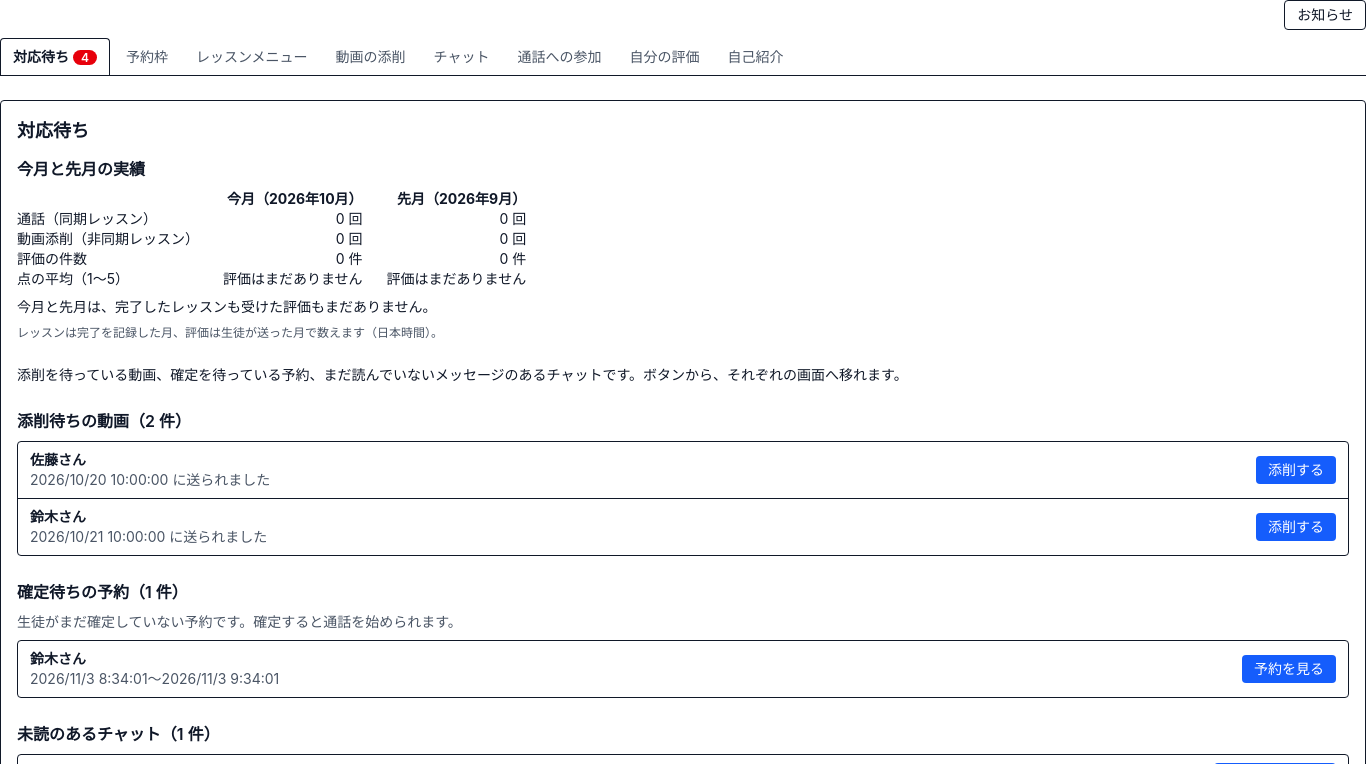
Test: コーチの対応待ち › 確定待ちの「予約を見る」で通話への参加（予約の一覧）へ移る
Click the button "予約を見る".
click(1289, 669)  # box [1242,655,1336,683]
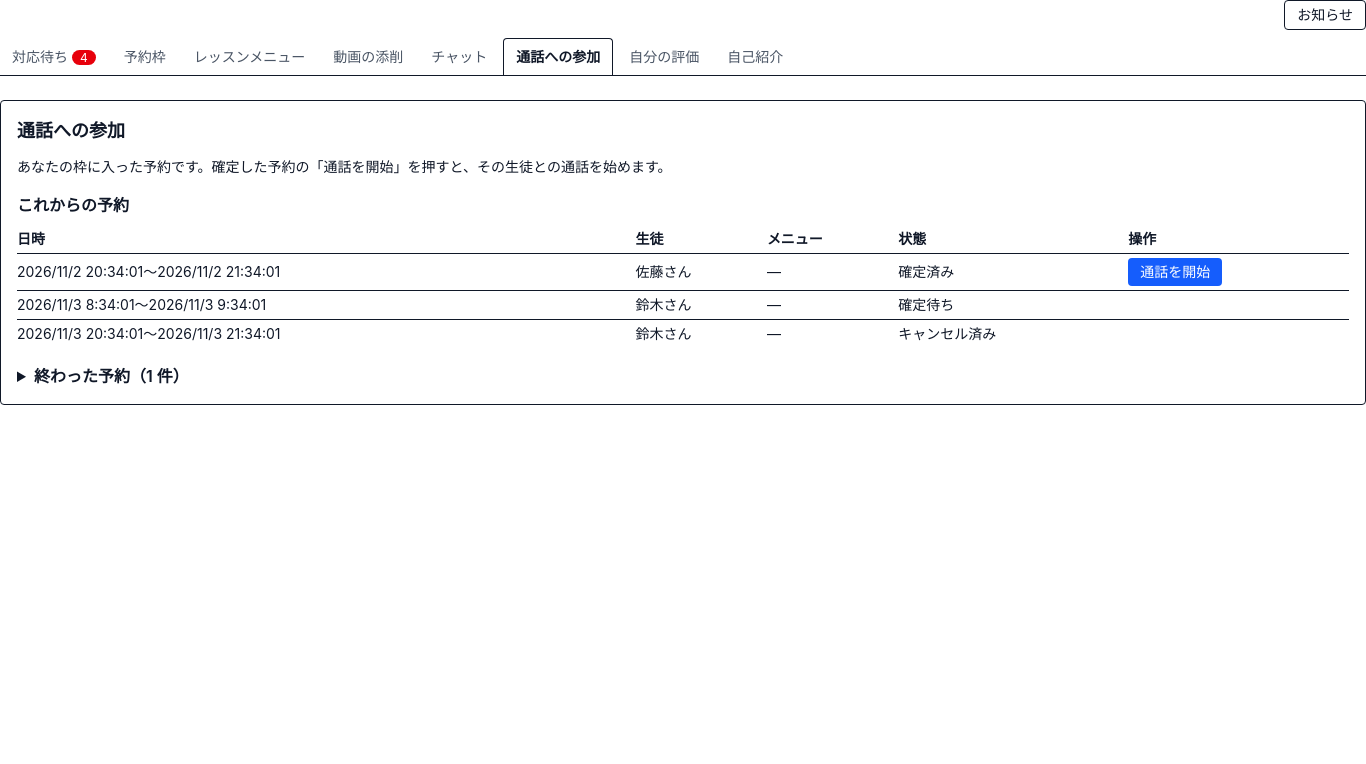
Expected: the table named "これからの予約" shows "確定待ち", [898,296,954,313]
